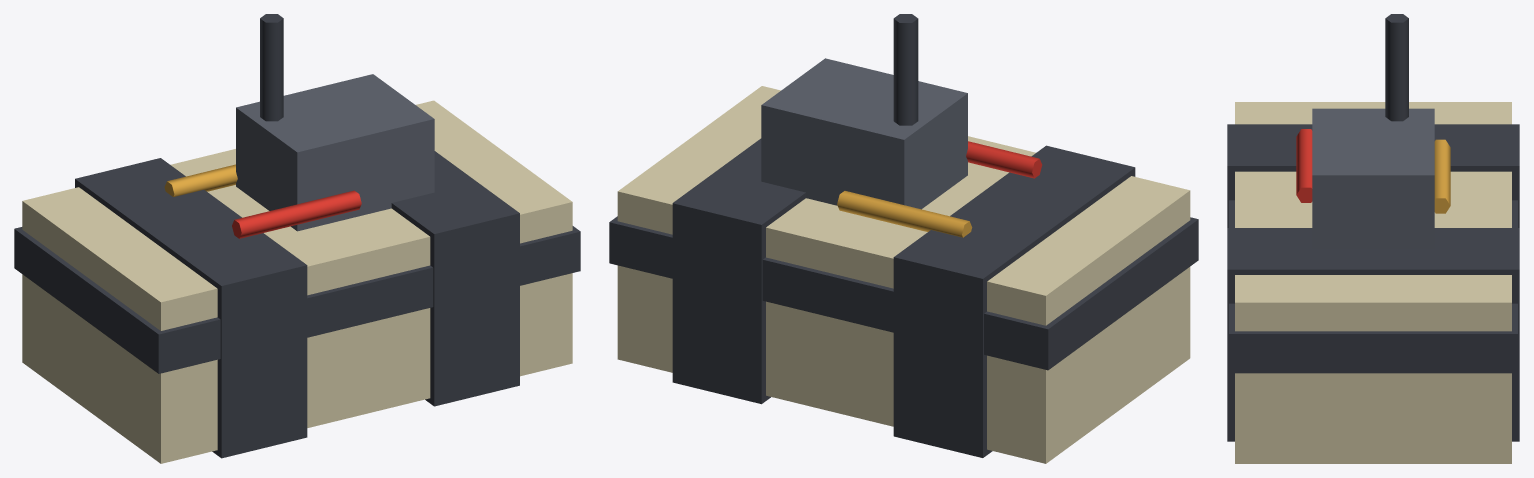
The picture shows the model from 3 angles, left to right: view 1: azimuth 30°, elevation 25°; view 2: azimuth 150°, elevation 25°; view 3: azimuth 270°, elevation 25°; orthographic projection. The views are drawn at different scales.
Visible parts, largest first — view 1: C4; view 2: C4; view 3: C4.
Part boxes in pixels (x1=…): C4: x1=14, y1=14, x2=580, y2=463; C4: x1=609, y1=14, x2=1198, y2=463; C4: x1=1227, y1=14, x2=1519, y2=463.
Bounding box in the file's own units: 0.246 × 0.192 × 0.148.
